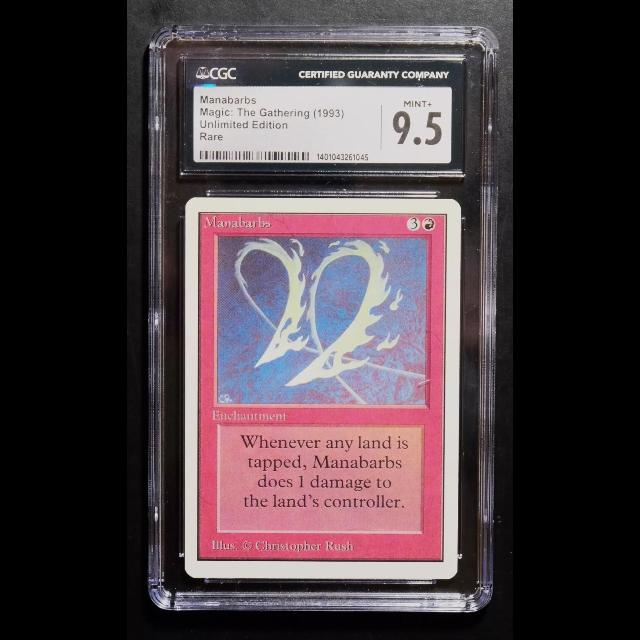card: (184, 196, 462, 580)
cgc_label: (183, 56, 463, 173)
cgc_slab: (146, 23, 499, 613)
